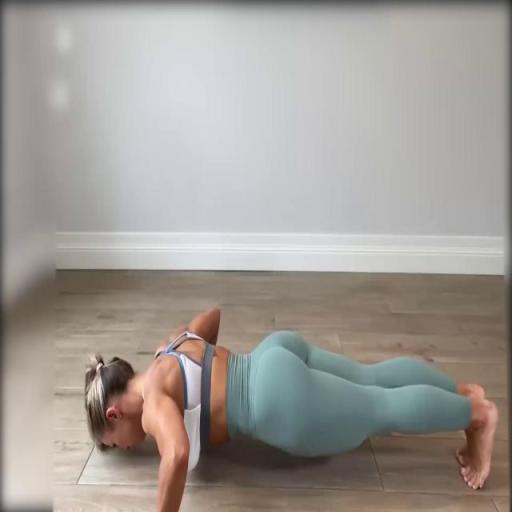Normal_Dips: (0, 293, 510, 512)
